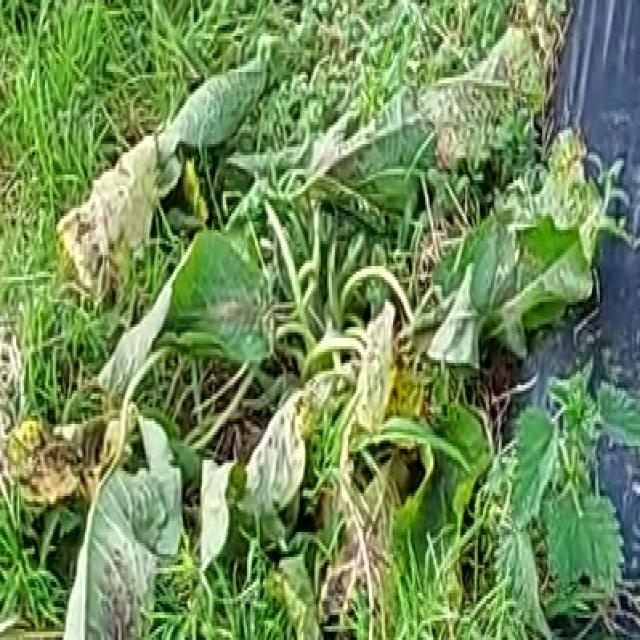organic waste: (40, 61, 630, 640)
